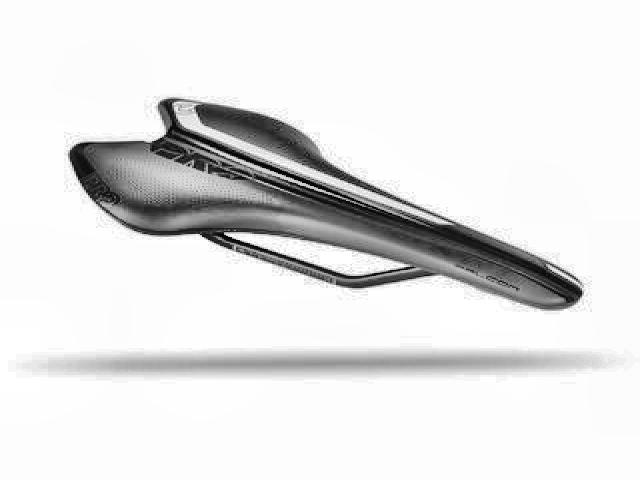saddle: (68, 92, 587, 314)
